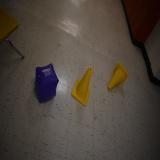cone: (70, 66, 96, 108), (104, 60, 130, 96)
cube: (31, 62, 60, 104)
